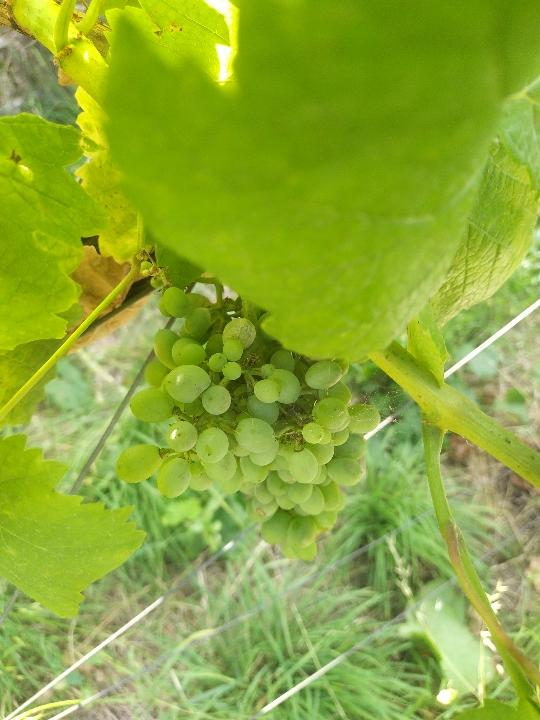grape: (112, 247, 387, 569)
